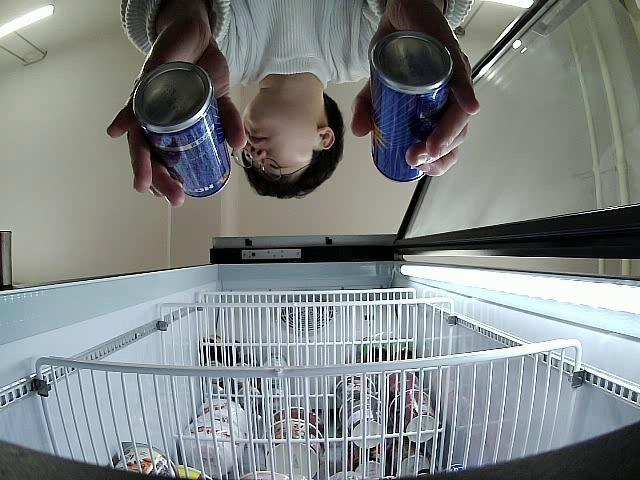16_hot6: (133, 60, 232, 198), (368, 33, 454, 184)
